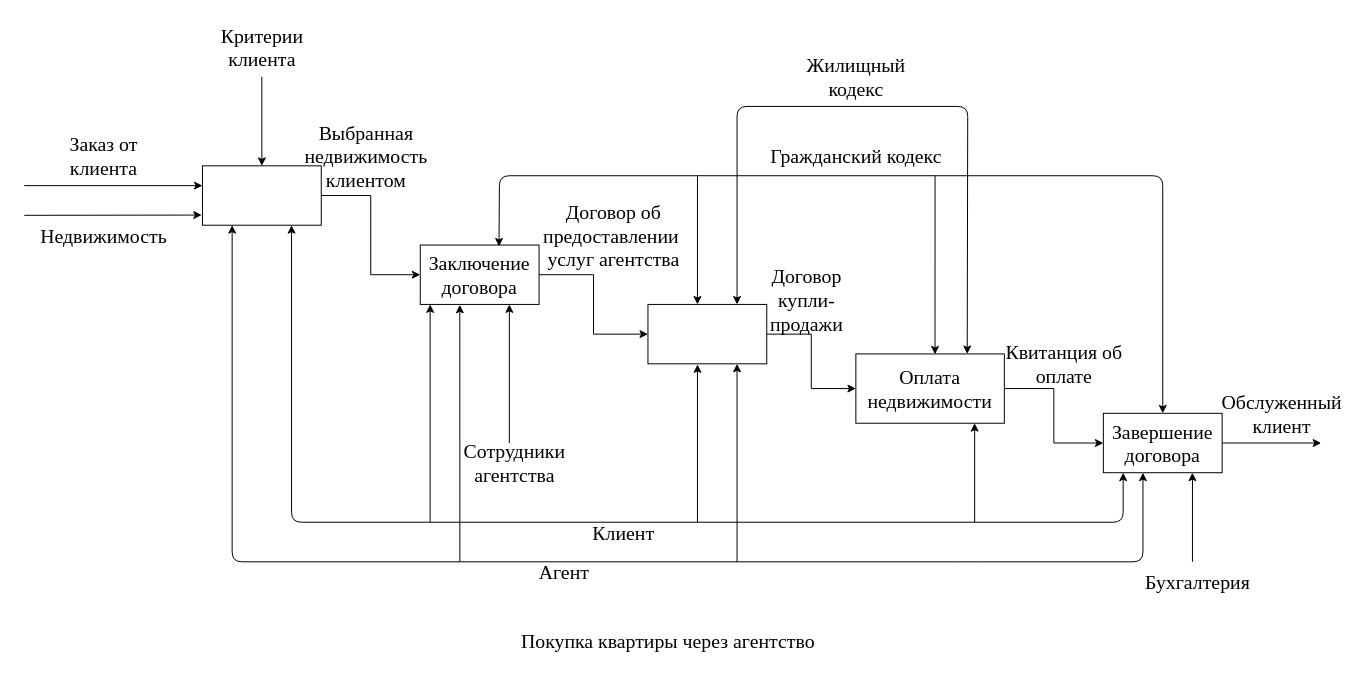
The diagram is 1368 pixels wide and 677 high, and some of its shapes have lost their labels. Each missing label, with the centre of its shape:
"Исполнение договора" belongs at point (707, 333).
"Подбор квартиры" belongs at point (261, 195).
